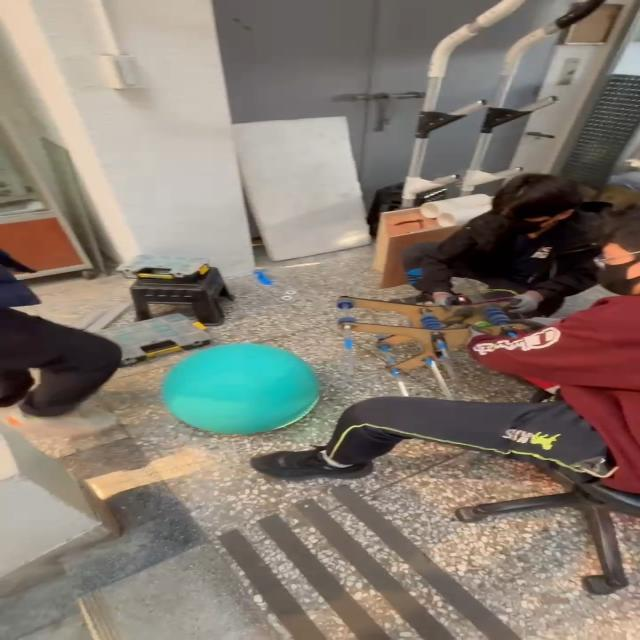ALGAE: (159, 342, 322, 436)
